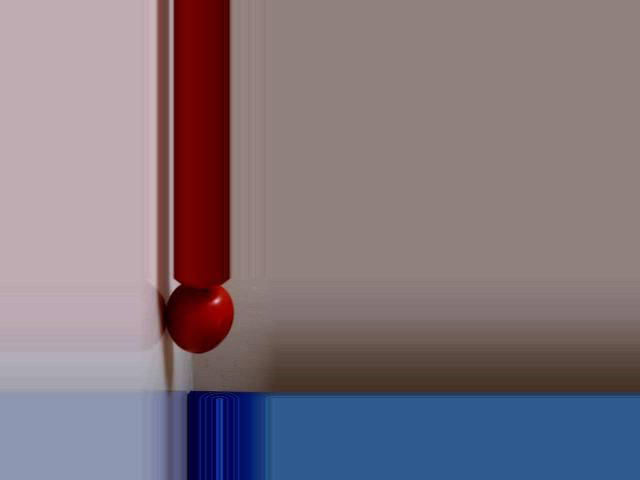tomato: (165, 286, 233, 353)
